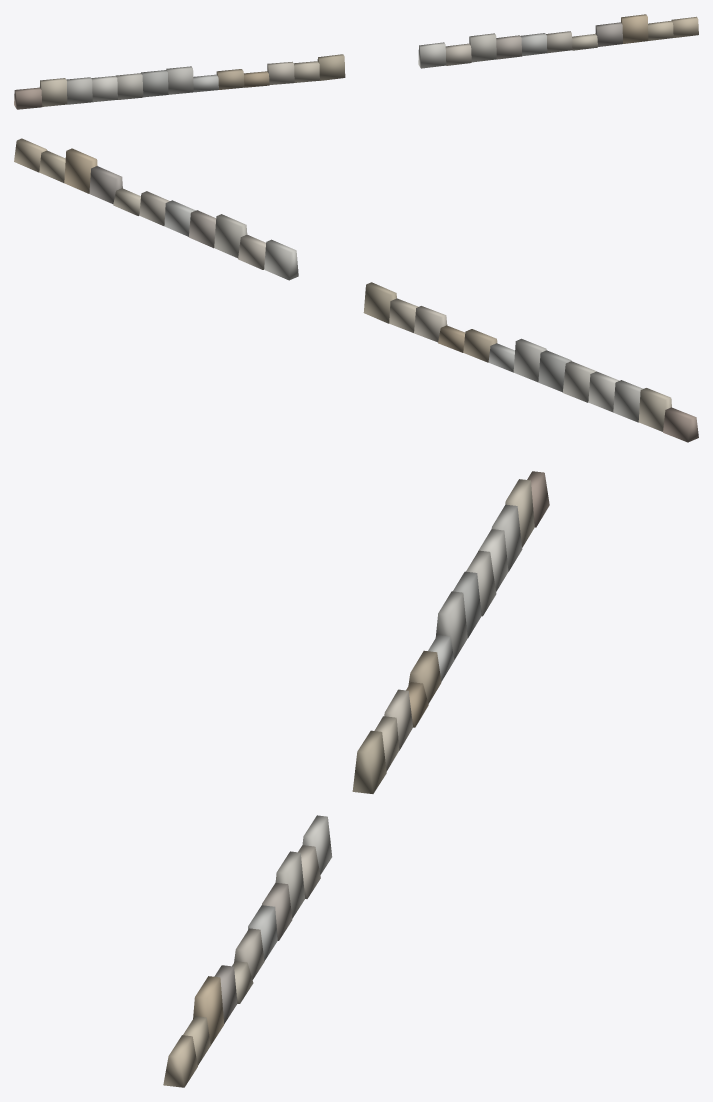
File: farm_13_23_collision.glb
3 views of the same model, one above another, from view 1: azimuth 30°, elevation 25°; view 2: azimuth 150°, elevation 25°; view 3: azimuth 270°, elevation 25° (orthographic). The views are drawn at different scales.
Parts seen in each view (by area): view 1: geometry_0; view 2: geometry_0; view 3: geometry_0.
Boxes of the visible parts, <box> form: geometry_0: <box>14,14,698,109</box>; geometry_0: <box>14,138,698,442</box>; geometry_0: <box>163,471,549,1087</box>.
Size of the model in its own units: 40.86 by 1.89 by 11.52.
